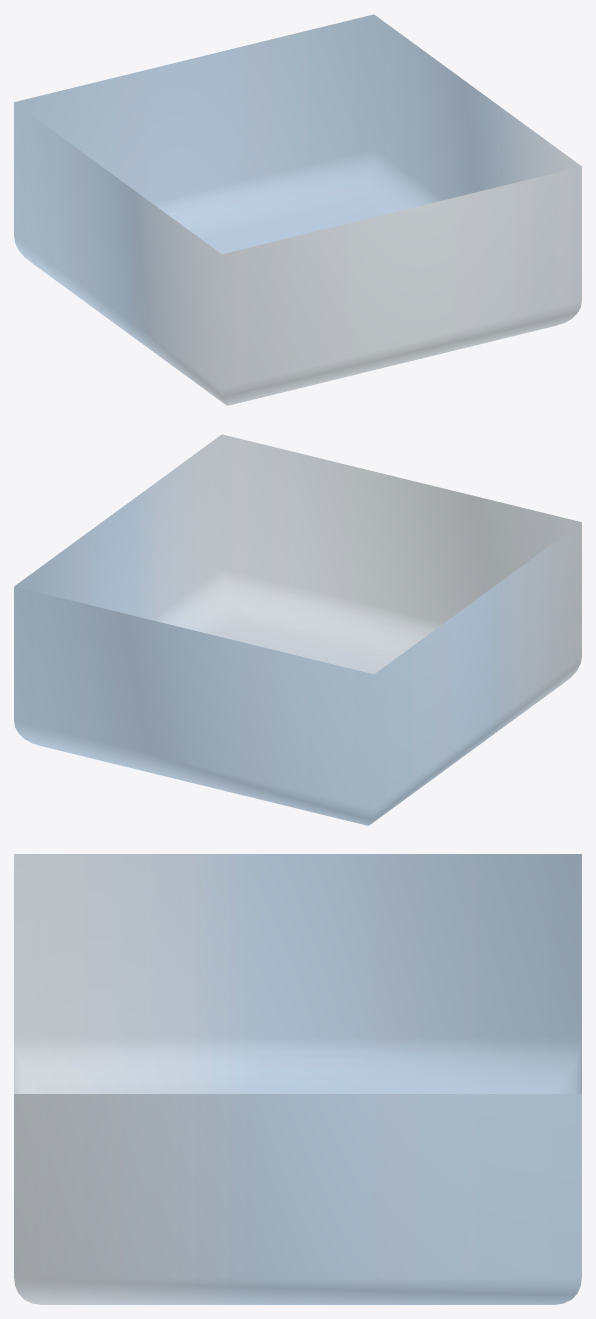
3 views of the same model, one above another, from view 1: azimuth 30°, elevation 25°; view 2: azimuth 150°, elevation 25°; view 3: azimuth 270°, elevation 25° (orthographic). The views are drawn at different scales.
Parts seen in each view (by area): view 1: Plane.004_baked; view 2: Plane.004_baked; view 3: Plane.004_baked.
Part boxes in pixels (box(x1,y1,x2,y2)): Plane.004_baked: box(14, 14, 581, 405); Plane.004_baked: box(14, 434, 581, 825); Plane.004_baked: box(14, 854, 581, 1304).
Size of the model in its own units: 30.93 by 13.62 by 30.93.
Materials: 10 (7 with a texture image).
